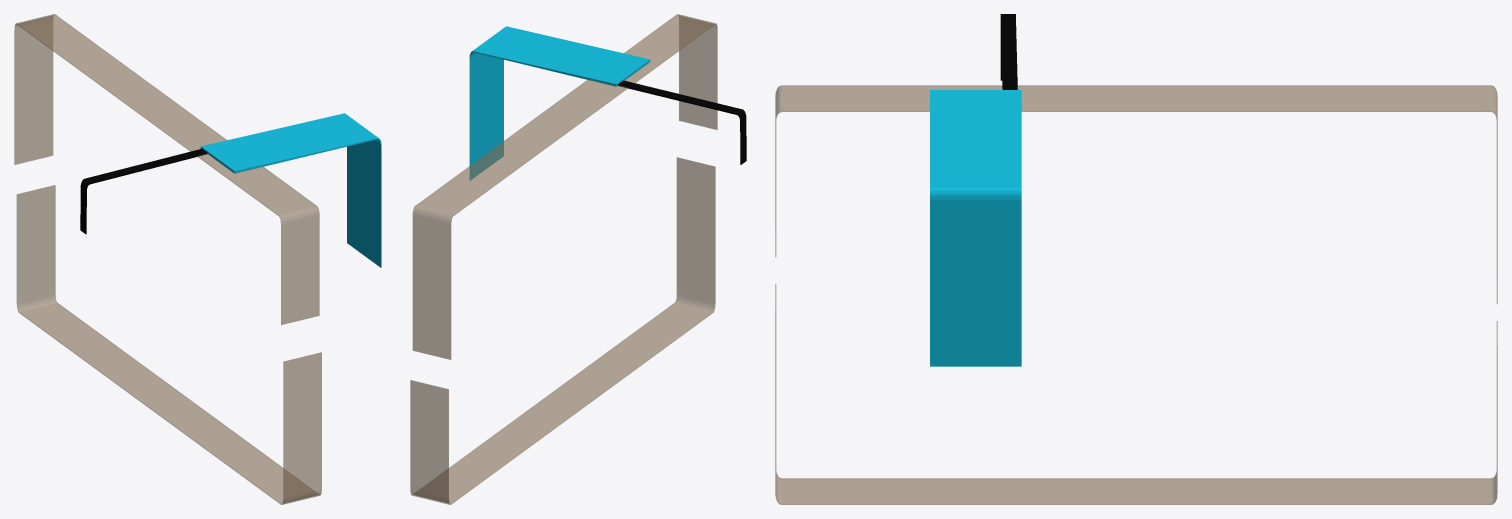
The model's file is tape_open_8.fbx.
The picture shows the model from 3 angles, left to right: view 1: azimuth 30°, elevation 25°; view 2: azimuth 150°, elevation 25°; view 3: azimuth 270°, elevation 25°; orthographic projection. The views are drawn at different scales.
Visible parts, largest first — view 1: tape_0.015, 평면.058, 평면.059; view 2: tape_0.015, 평면.058, 평면.059; view 3: tape_0.015, 평면.058, 평면.059.
Part boxes in pixels (x1=…): tape_0.015: x1=14, y1=14, x2=321, y2=504; 평면.058: x1=200, y1=113, x2=381, y2=267; 평면.059: x1=80, y1=148, x2=207, y2=234; tape_0.015: x1=410, y1=14, x2=717, y2=504; 평면.058: x1=469, y1=26, x2=650, y2=180; 평면.059: x1=617, y1=80, x2=746, y2=164; tape_0.015: x1=775, y1=85, x2=1497, y2=504; 평면.058: x1=930, y1=90, x2=1021, y2=366; 평면.059: x1=1000, y1=14, x2=1017, y2=89.
Bounding box in the file's own units: 146 × 151 × 251.
